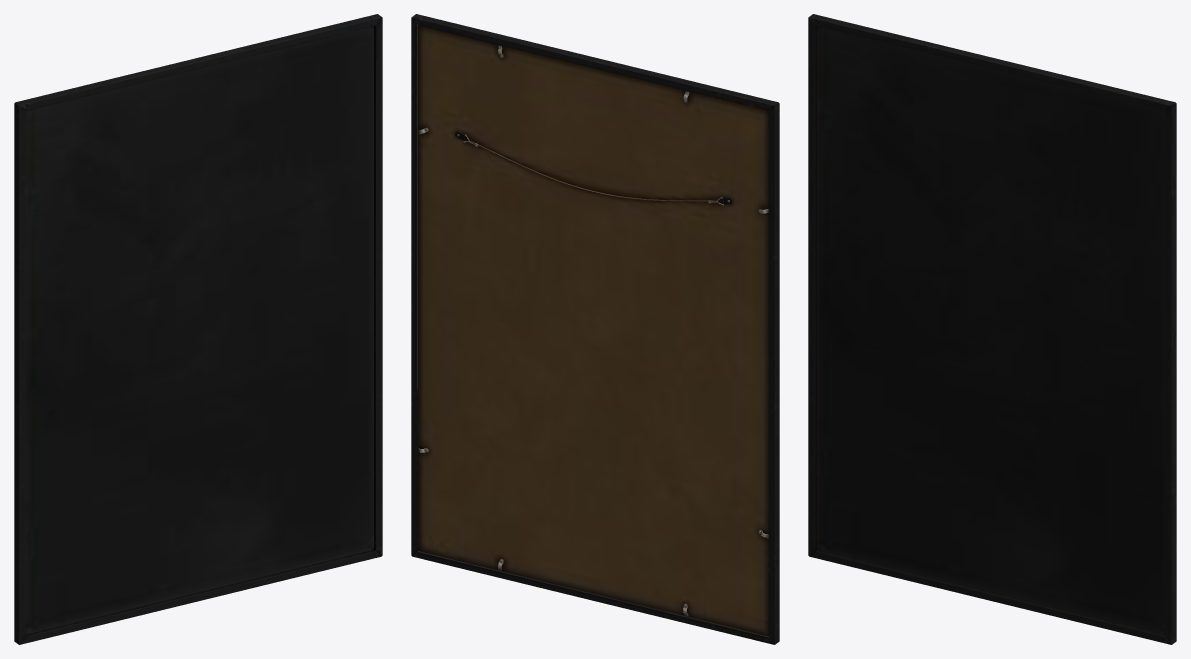
The model's file is hanging_picture_frame_01.glb.
The picture shows the model from 3 angles, left to right: view 1: azimuth 30°, elevation 25°; view 2: azimuth 150°, elevation 25°; view 3: azimuth 330°, elevation 25°; orthographic projection.
Visible parts, largest first — view 1: c03_glass, c00_wood; view 2: c03_glass, c00_wood, c01_wood; view 3: c03_glass, c00_wood.
Boxes of the visible parts, x1,y1,x2,y2 form: c03_glass: (19, 17, 382, 644); c00_wood: (14, 14, 382, 644); c03_glass: (418, 26, 768, 635); c00_wood: (411, 14, 779, 644); c01_wood: (455, 131, 732, 205); c03_glass: (808, 17, 1171, 644); c00_wood: (808, 14, 1176, 644).
Bounding box in the file's own units: 0.594 × 0.841 × 0.0157.
Materials: 3 (3 with a texture image).
